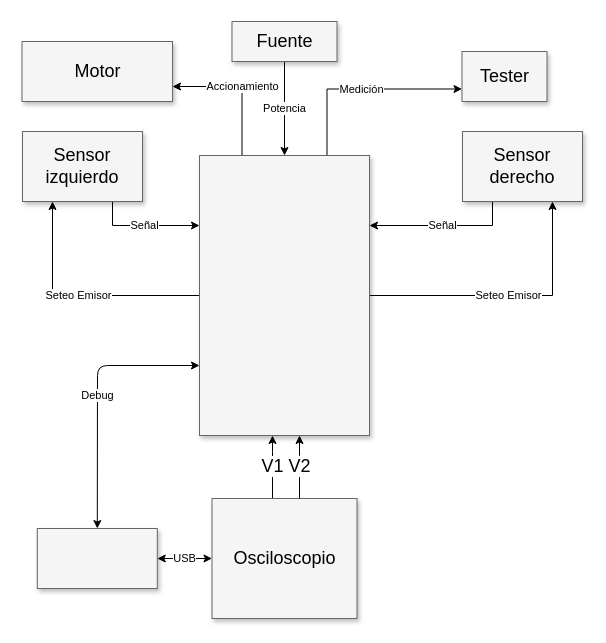
This 606x643 diagram has some shape labels left out. Each missing label, with the centre of its shape:
PC: point (97, 560)
Placa Control Ensayo: point (285, 296)
